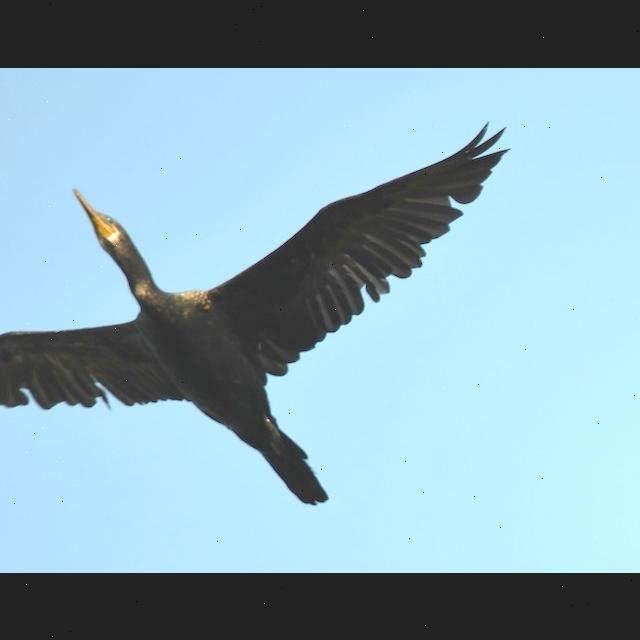cormorant: (2, 110, 528, 562)
